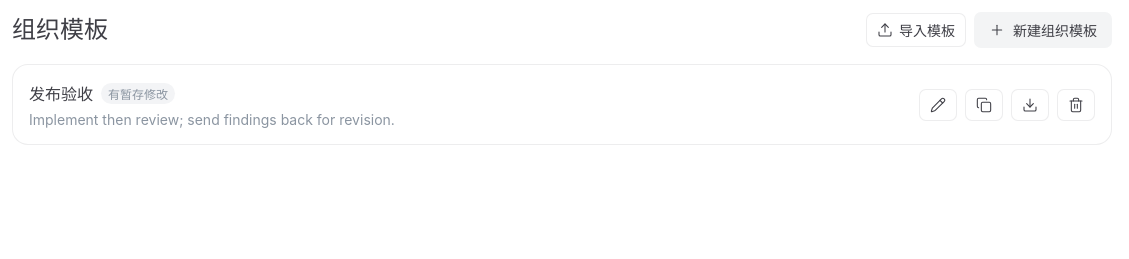
Scenario: organization template lifecycle › duplicates the published template without touching its draft or instances
The width and height of the screenshot is (1129, 259).
Click the button named "复制模板 发布验收".
click(984, 104)  # box [965,88,1003,120]
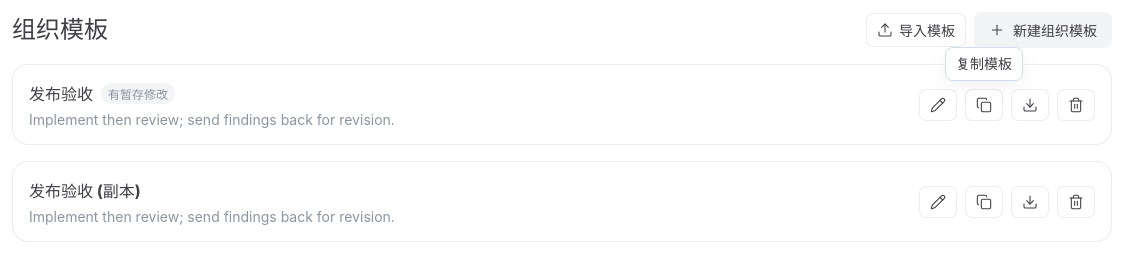
Expected: the text "发布验收 (副本)" is shown, [29,178,141,202]
